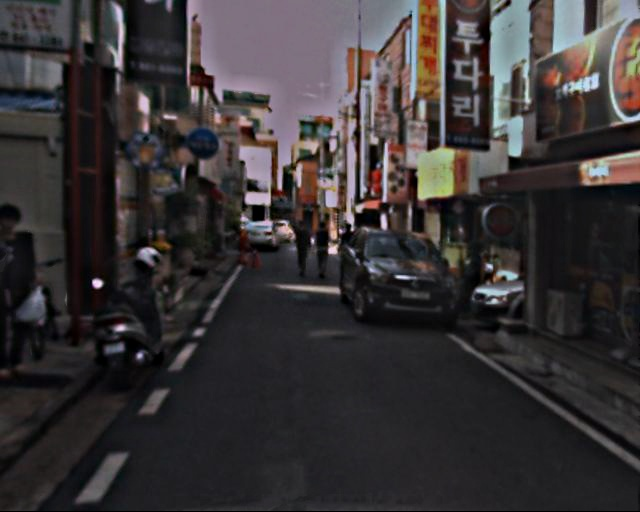person: (290, 217, 315, 279), (333, 220, 358, 282), (310, 218, 335, 278)
